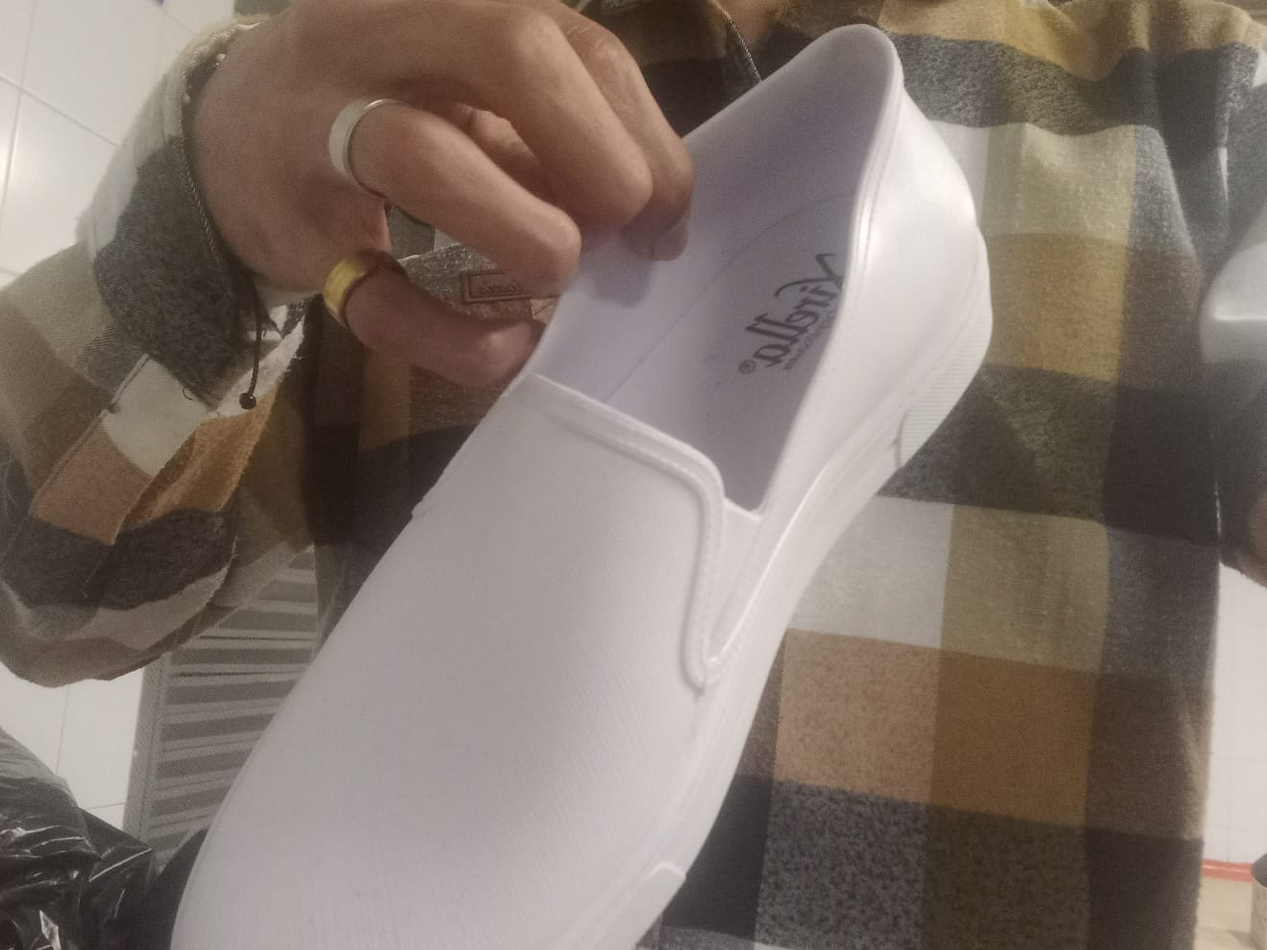Ordinario: (164, 23, 997, 950)
